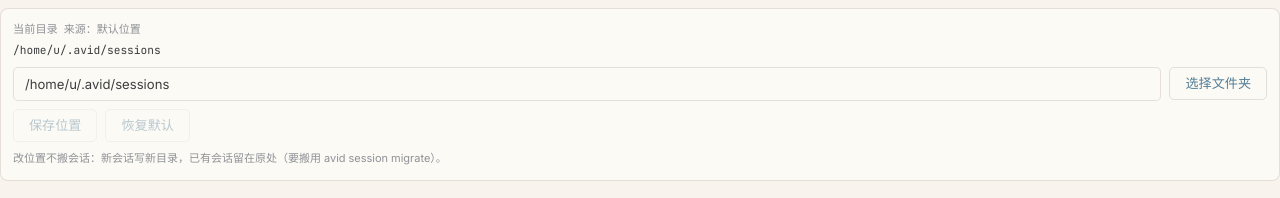
Test: SessionsSection（设置 · 会话存储） › 选择文件夹只填路径，不保存
What coordinates should you click on to do the following:
click the button "选择文件夹"
I would click on:
 (1218, 84)
Its box is x1=1169 y1=67 x2=1267 y2=100.
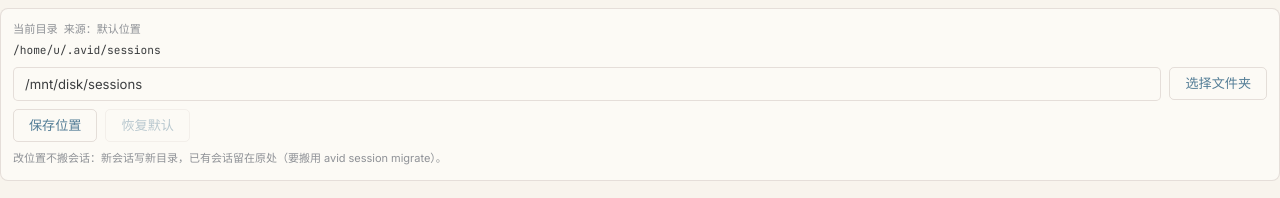
Now the field named "会话目录" holds "/mnt/disk/sessions", box x1=13 y1=67 x2=1161 y2=101
